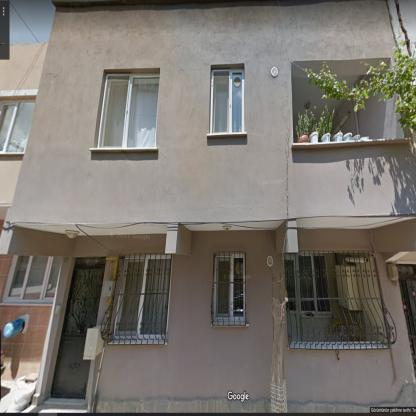door: (51, 258, 105, 397), (399, 266, 415, 367), (286, 256, 300, 341)
window: (114, 257, 171, 338), (97, 75, 158, 146), (3, 256, 60, 301), (210, 70, 244, 132), (214, 256, 244, 320), (296, 254, 329, 312), (1, 101, 35, 152)
